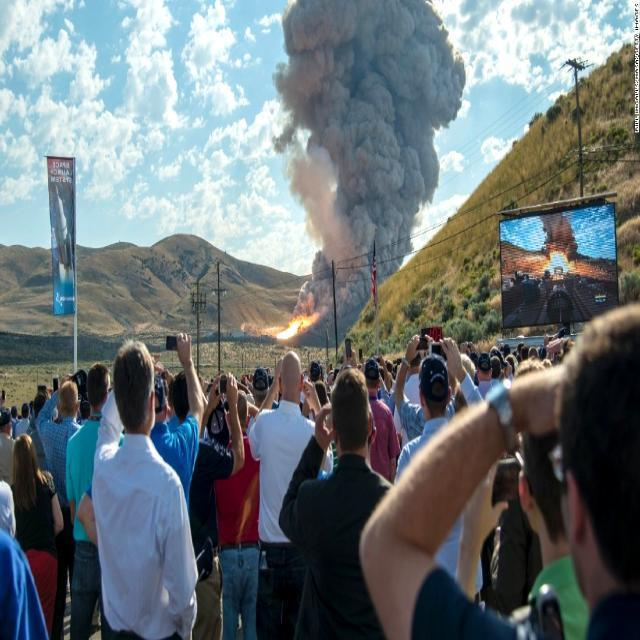Fire: (265, 302, 323, 347)
Smoke: (292, 0, 458, 291)
